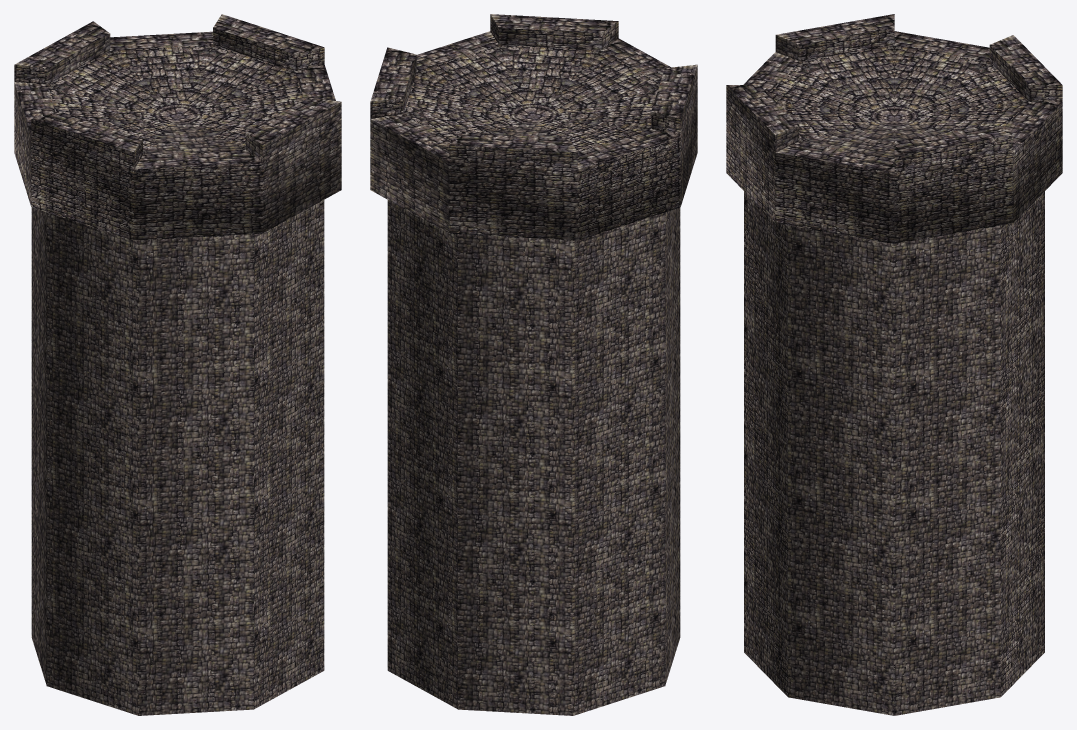
File: pir_m_bld_frt_tower_100.fbx
The picture shows the model from 3 angles, left to right: view 1: azimuth 30°, elevation 25°; view 2: azimuth 150°, elevation 25°; view 3: azimuth 270°, elevation 25°; orthographic projection.
Parts seen in each view (by area): view 1: base, parapet; view 2: base, parapet; view 3: base, parapet.
Boxes of the visible parts, <box> form: base: <box>31,200,324,715</box>; parapet: <box>14,14,341,240</box>; base: <box>387,200,680,715</box>; parapet: <box>370,14,697,240</box>; base: <box>744,191,1044,715</box>; parapet: <box>726,14,1062,243</box>.
Bounding box in the file's own units: 11177 × 20796 × 11177.
Materials: 1 (1 with a texture image).
